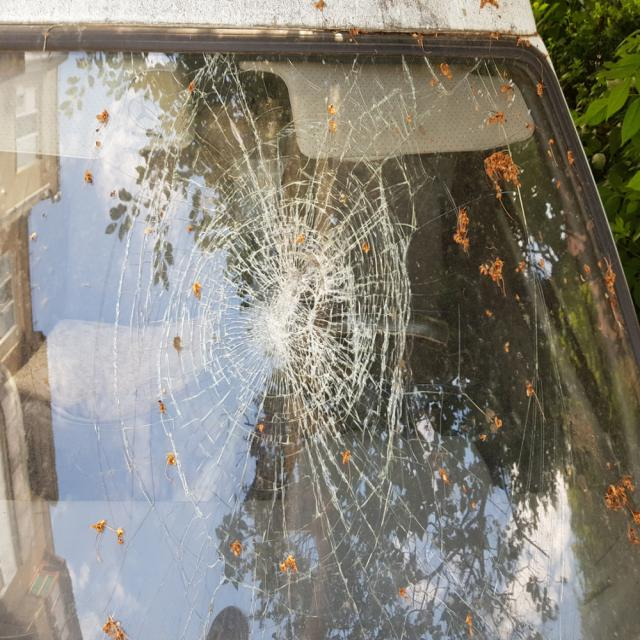Fissure: (90, 34, 472, 640), (474, 51, 587, 633)
